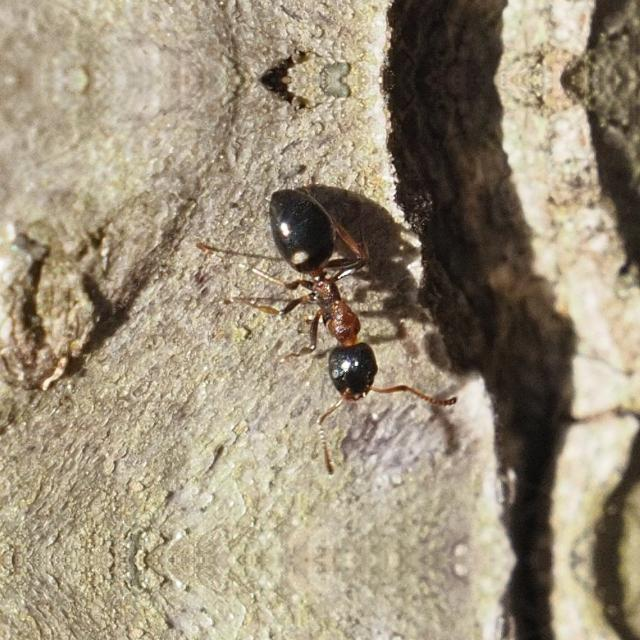Dolichoderus: (231, 163, 433, 439)
